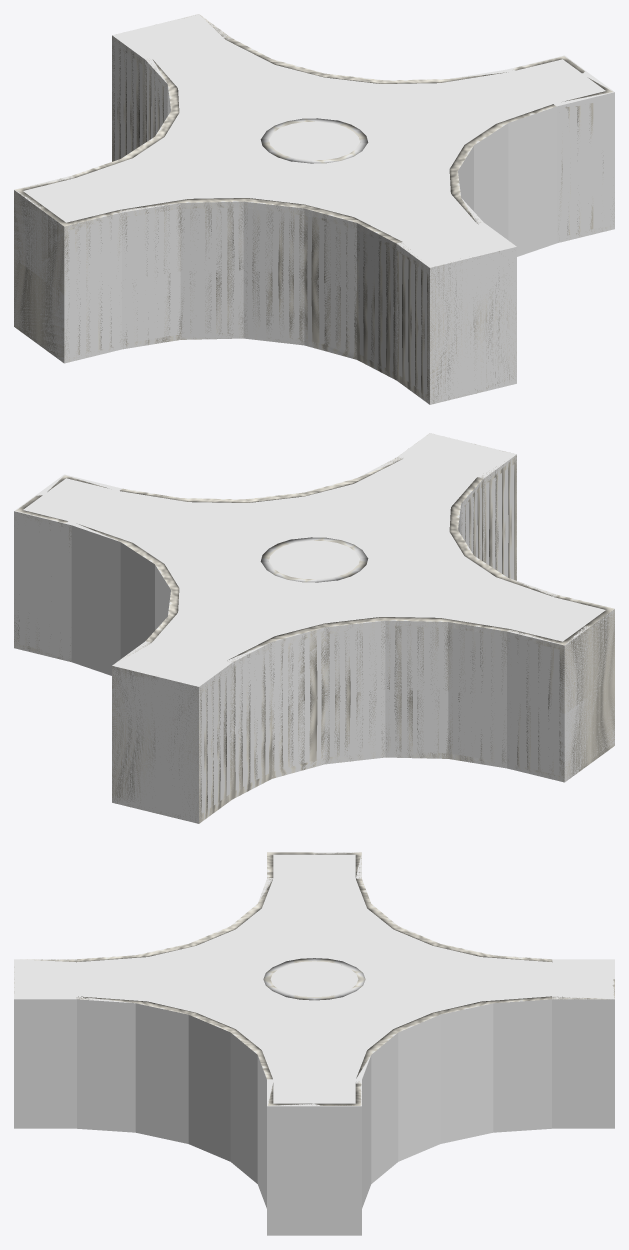
3 views of the same model, one above another, from view 1: azimuth 30°, elevation 25°; view 2: azimuth 150°, elevation 25°; view 3: azimuth 270°, elevation 25° (orthographic). The views are drawn at different scales.
Visible parts, largest first — view 1: object5detail1, obj57, obj72, obj71, obj73, obj74, obj61, obj62, obj2, obj4, obj1, obj3 (+32 smaller); view 2: object5detail1, obj59, obj77, obj78, obj76, obj88, obj75, obj87, obj1, obj3, obj2, obj4 (+32 smaller); view 3: obj60, obj67, obj82, obj66, obj83, obj65, obj84, object5detail1, obj2, obj3, obj1, obj4 (+30 smaller).
Boxes of the visible parts, box(x1,y1,x2,y2) form: object5detail1: box(14, 15, 614, 404); obj57: box(430, 247, 516, 404); obj72: box(180, 201, 243, 339); obj71: box(243, 201, 304, 345); obj73: box(122, 203, 180, 349); obj74: box(64, 212, 121, 363); obj61: box(557, 92, 614, 242); obj62: box(508, 106, 557, 256); obj2: box(199, 141, 380, 206); obj4: box(248, 75, 429, 140); obj1: box(315, 113, 468, 189); obj3: box(160, 92, 313, 168); object5detail1: box(14, 433, 614, 823); obj59: box(112, 666, 198, 823); obj77: box(385, 620, 448, 758); obj78: box(324, 620, 385, 764); obj76: box(448, 622, 506, 768); obj88: box(14, 511, 71, 661); obj75: box(507, 631, 564, 782); obj87: box(71, 525, 120, 675); obj1: box(199, 494, 380, 559); obj3: box(248, 560, 429, 625); obj2: box(315, 511, 468, 587); obj4: box(160, 532, 313, 608); obj60: box(267, 1106, 361, 1235); obj67: box(14, 999, 76, 1128); obj82: box(552, 999, 614, 1128); obj66: box(77, 999, 135, 1132); obj83: box(493, 999, 551, 1132); obj65: box(135, 1003, 188, 1143); obj84: box(440, 1003, 493, 1143); object5detail1: box(14, 852, 614, 1105); obj2: box(188, 926, 314, 979); obj3: box(314, 926, 440, 979); obj1: box(188, 979, 314, 1032); obj4: box(314, 979, 440, 1032).
Bounding box in the file's own units: 59.26 × 14.08 × 59.26.
Materials: 6 (6 with a texture image).
